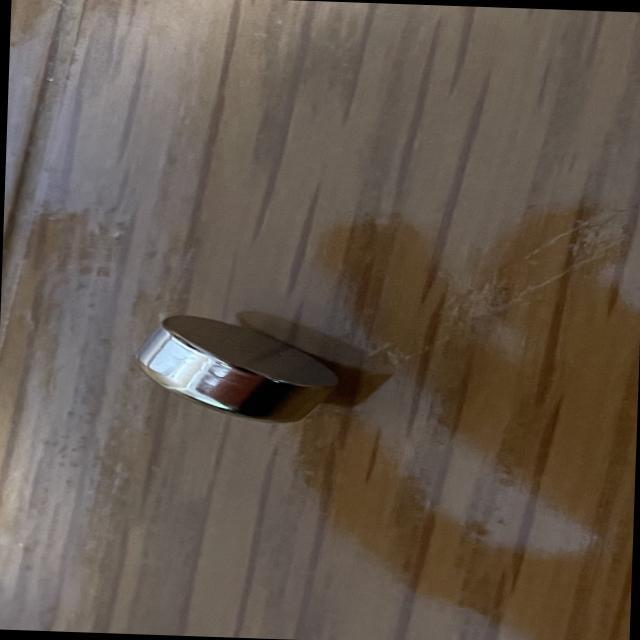COIN: (128, 308, 343, 424)
